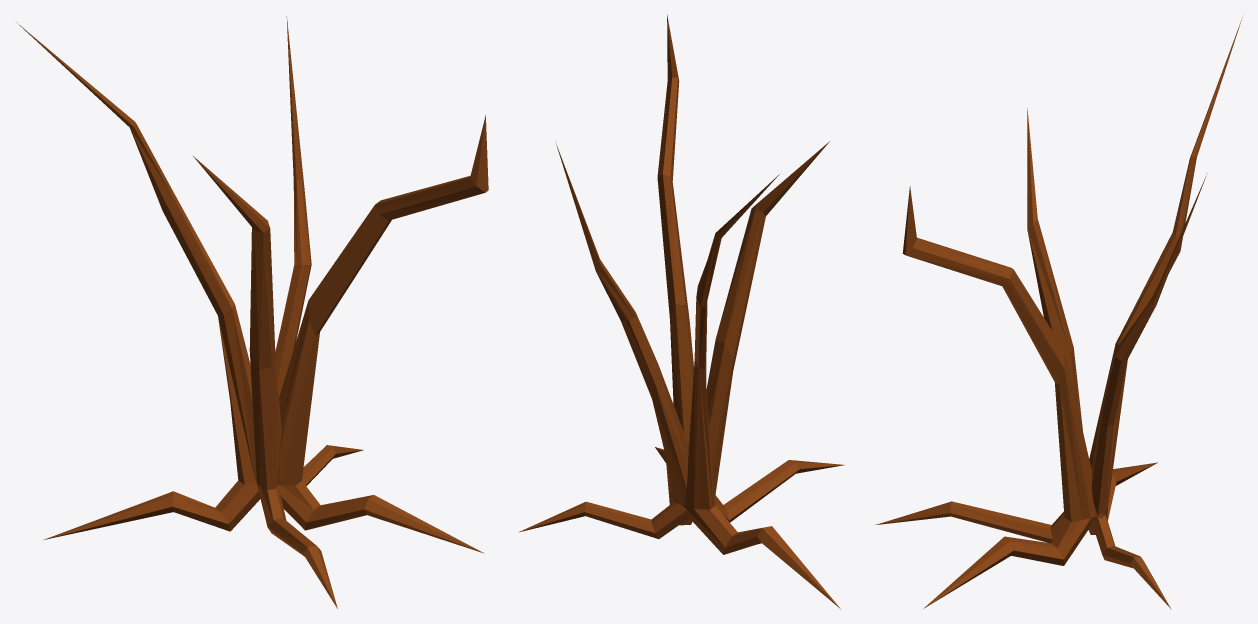
The model's file is Vegetation_Tree_Trunk_Spikey_03.FBX.
3 views of the same model, side by side, from view 1: azimuth 30°, elevation 25°; view 2: azimuth 150°, elevation 25°; view 3: azimuth 270°, elevation 25° (orthographic). The views are drawn at different scales.
Parts seen in each view (by area): view 1: Vegetation_Tree_Trunk_Spikey_03; view 2: Vegetation_Tree_Trunk_Spikey_03; view 3: Vegetation_Tree_Trunk_Spikey_03.
Boxes of the visible parts, left/top/right/bottom form: Vegetation_Tree_Trunk_Spikey_03: left=16, top=16, right=488, bottom=608; Vegetation_Tree_Trunk_Spikey_03: left=518, top=14, right=844, bottom=609; Vegetation_Tree_Trunk_Spikey_03: left=876, top=17, right=1242, bottom=609.
Bounding box in the file's own units: 4478 × 6297 × 4595.
